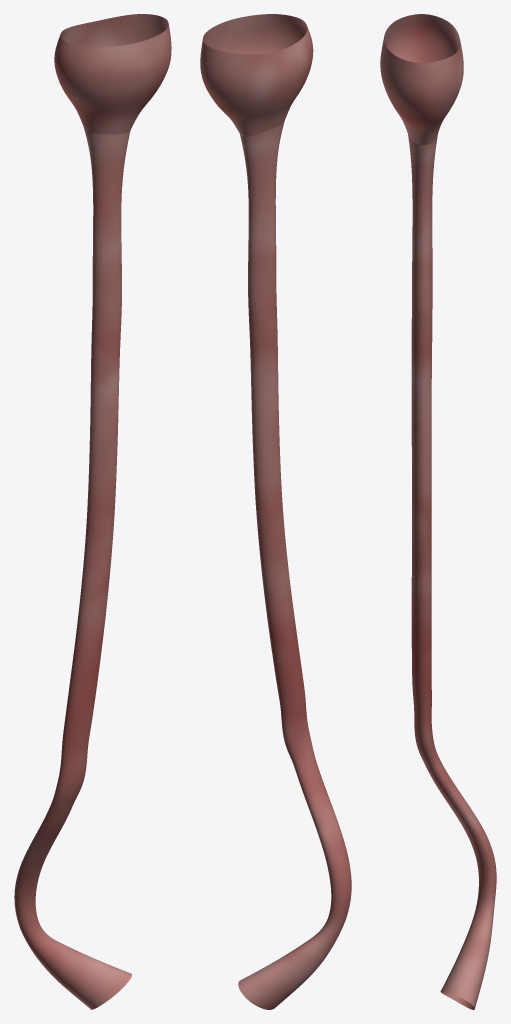
File: esophagus.glb
The picture shows the model from 3 angles, left to right: view 1: azimuth 30°, elevation 25°; view 2: azimuth 210°, elevation 25°; view 3: azimuth 270°, elevation 25°; orthographic projection. The views are drawn at different scales.
Visible parts, largest first — view 1: esophagus; view 2: esophagus; view 3: esophagus.
Part boxes in pixels (x1,y1,x2,y2): esophagus: (14,14,171,1009); esophagus: (200,14,351,1009); esophagus: (380,14,496,1009).
Bounding box in the file's own units: 0.2643 × 2.09 × 0.2268.
1 material, 1 textured.
